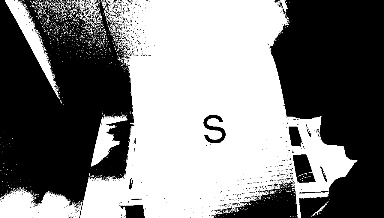S: (197, 111, 229, 144)
